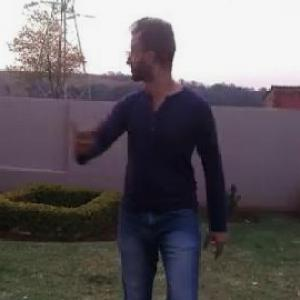takeoff-hand: (62, 109, 104, 163)
